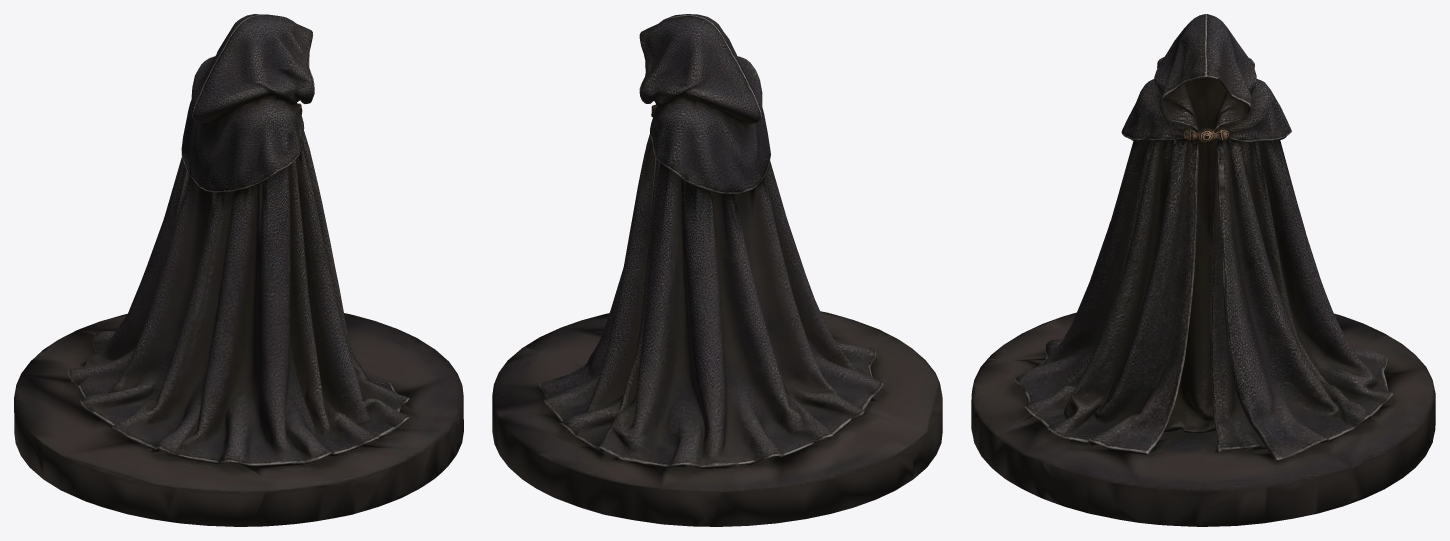
The model's file is wayfarer-cloak.glb.
The picture shows the model from 3 angles, left to right: view 1: azimuth 30°, elevation 25°; view 2: azimuth 150°, elevation 25°; view 3: azimuth 270°, elevation 25°; orthographic projection. The views are drawn at different scales.
Visible parts, largest first — view 1: tripo_node_5e25a749-b8a2-4a90-a18a-d254cd94a71d; view 2: tripo_node_5e25a749-b8a2-4a90-a18a-d254cd94a71d; view 3: tripo_node_5e25a749-b8a2-4a90-a18a-d254cd94a71d.
Boxes of the visible parts, x1,y1,x2,y2 form: tripo_node_5e25a749-b8a2-4a90-a18a-d254cd94a71d: (14, 14, 463, 526); tripo_node_5e25a749-b8a2-4a90-a18a-d254cd94a71d: (492, 14, 942, 526); tripo_node_5e25a749-b8a2-4a90-a18a-d254cd94a71d: (971, 14, 1435, 526).
Size of the model in its own units: 0.9965 by 0.9995 by 0.9995.
Materials: 1 (1 with a texture image).
